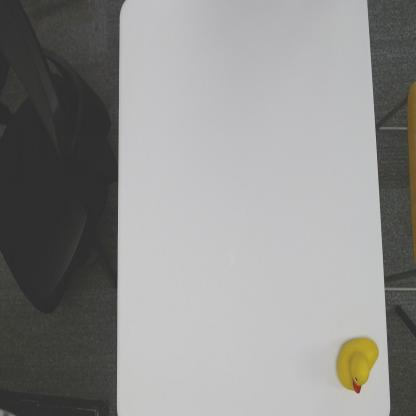Duck: (335, 333, 381, 397)
